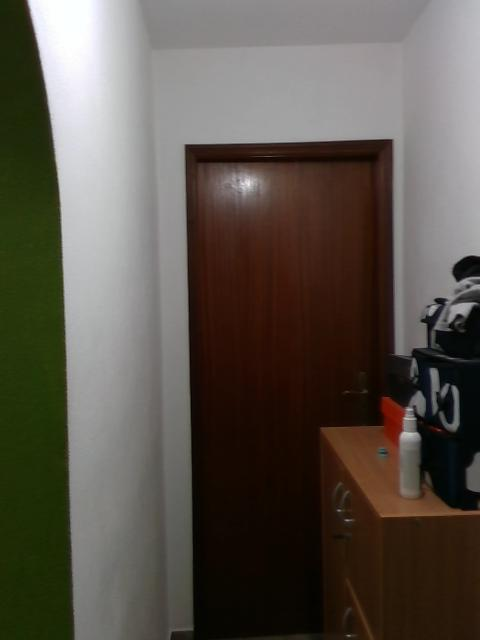closed_door: (181, 137, 380, 639)
